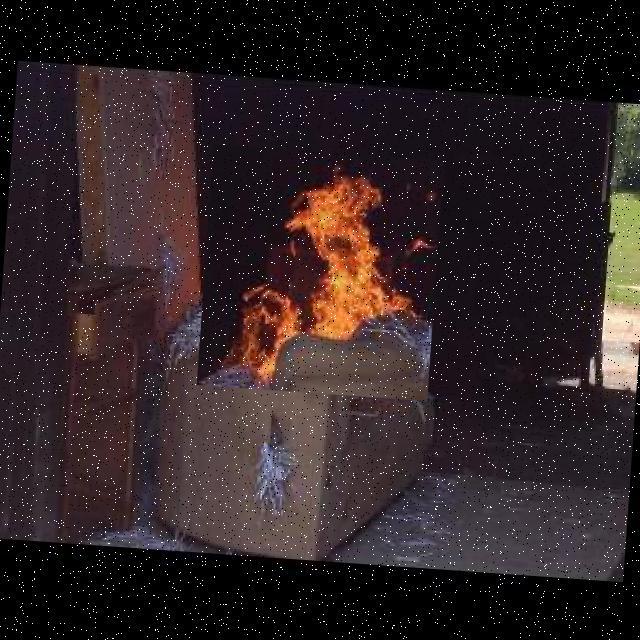fire: (196, 144, 444, 401)
